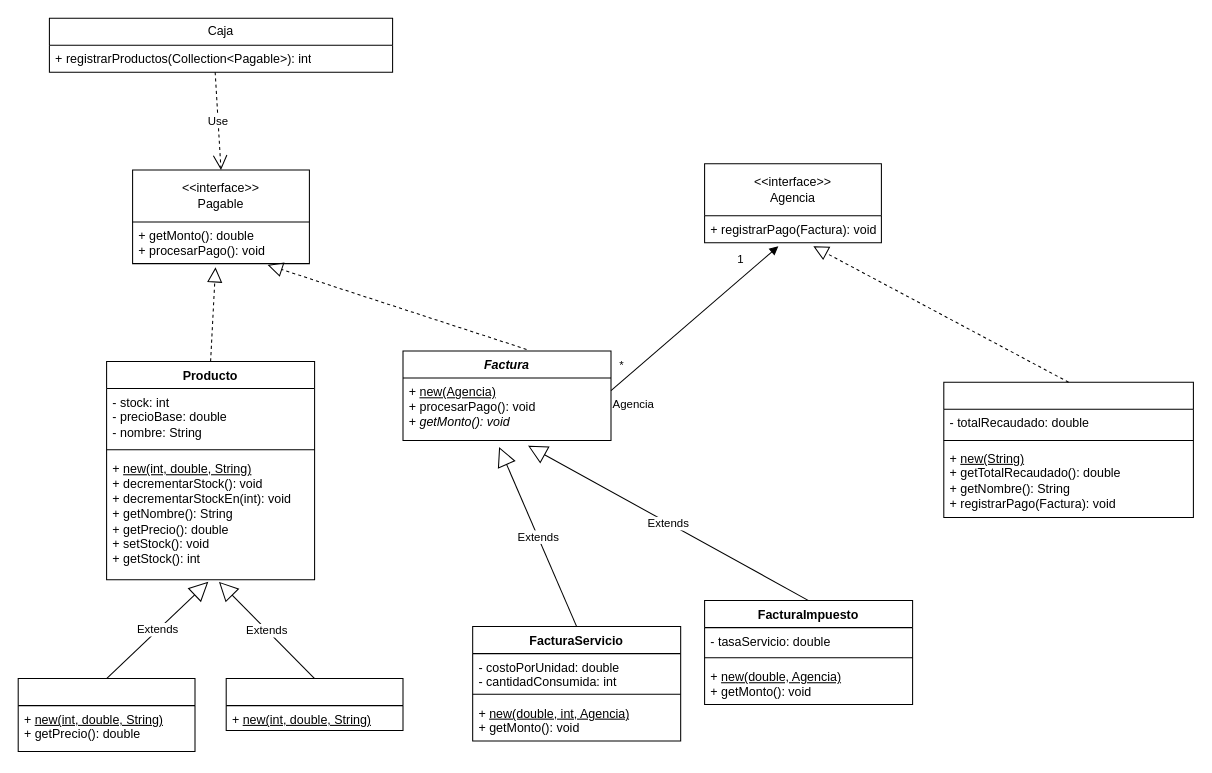
Some shapes in this 1212 by 773 pixel diagram are drawn without their labels. The box of each missing label's shape, as (x1, y1, x2, y2) in pixels:
AgenciaImpl: (943, 381, 1193, 517)
ProductoCooperativa: (17, 678, 195, 751)
ProductoTradicional: (225, 678, 403, 731)
